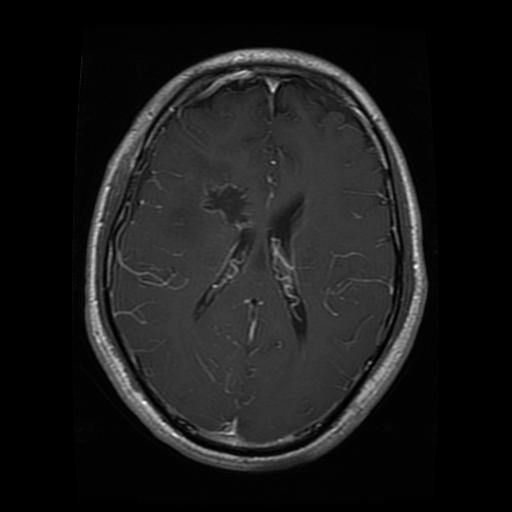Gliomia_tumour: (149, 152, 252, 246)
